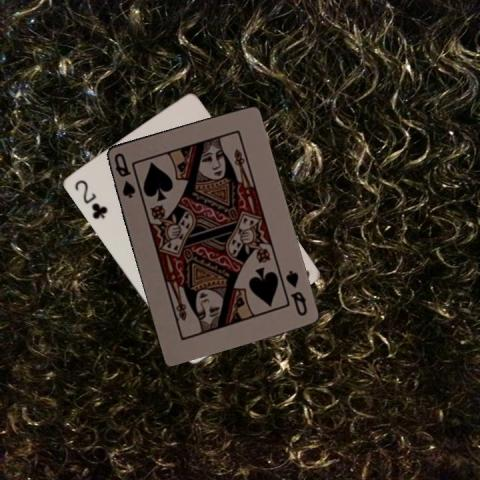2c: (70, 176, 108, 220)
Qs: (282, 268, 309, 317), (110, 150, 136, 199)
